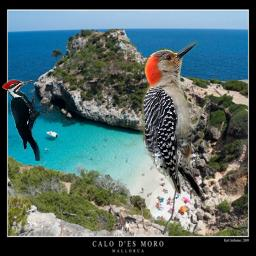Woodpecker: (136, 38, 211, 217), (2, 78, 50, 161)
